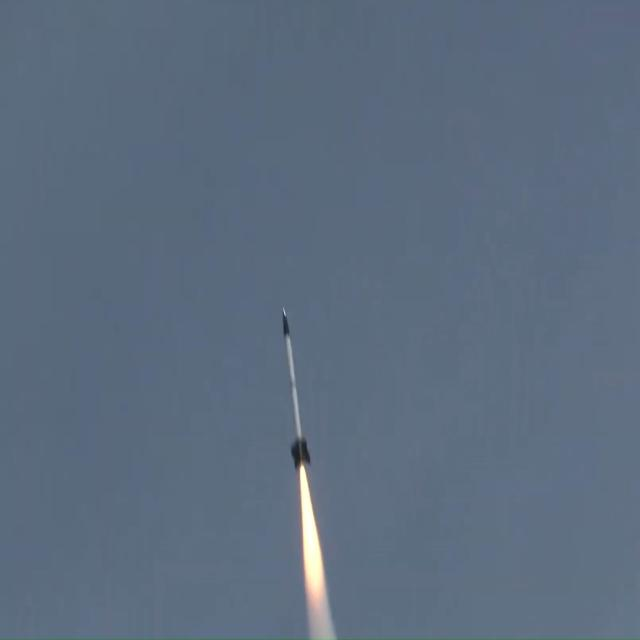Rocket: (282, 308, 312, 470)
